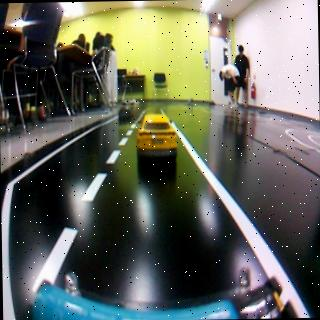car: (135, 112, 179, 157), (115, 105, 134, 121)
